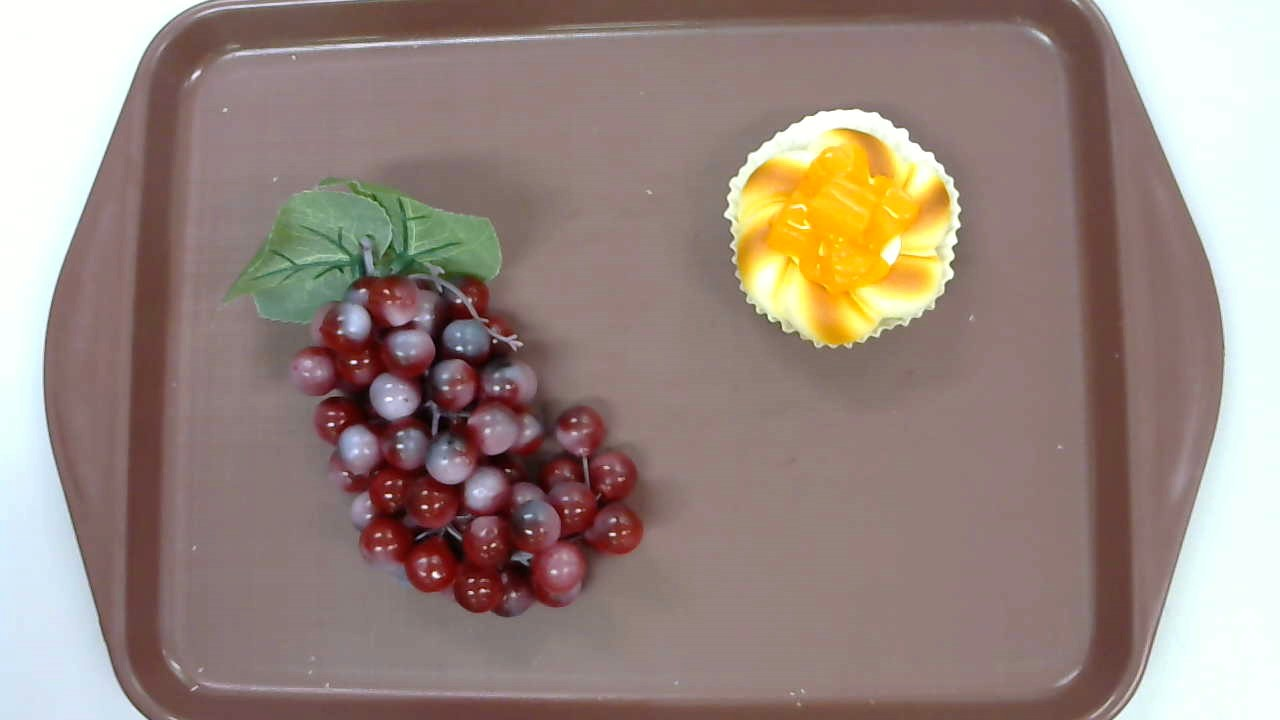grape: (223, 178, 645, 621)
mango tart: (723, 107, 964, 351)
